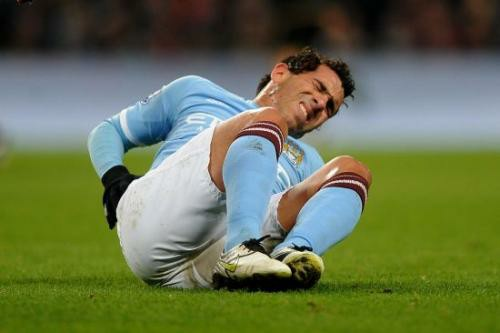fall: (79, 34, 366, 302)
